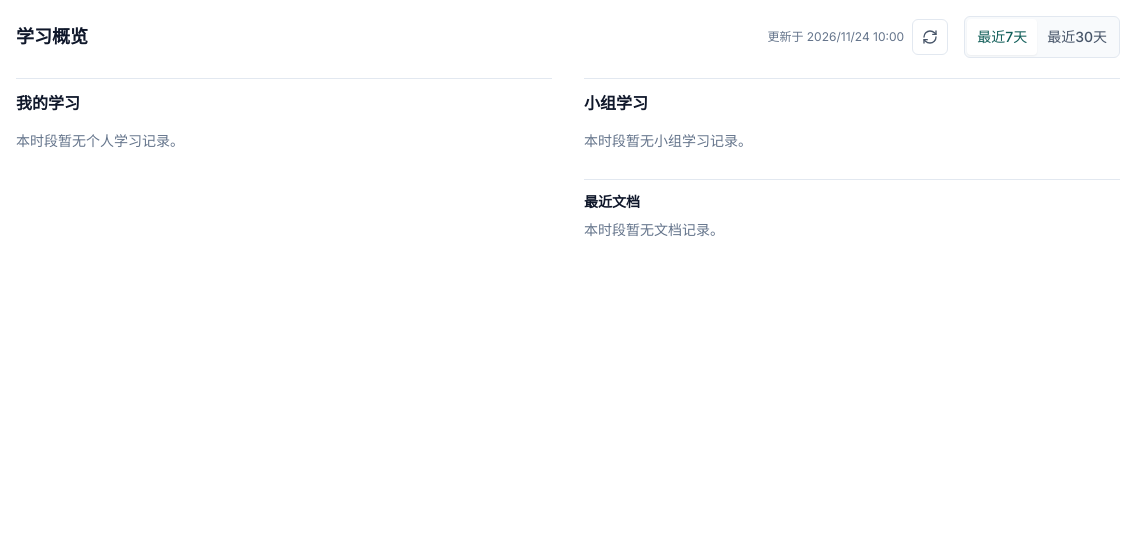
Test: LearningDashboard › refreshes saved records without changing the period
This screenshot has width=1137, height=551.
Check: the text "本时段暂无小组学习记录。" is shown, box left=584, top=132, right=752, bottom=149
Click the button named "刷新学习记录".
click(930, 37)  # box left=912, top=19, right=948, bottom=55
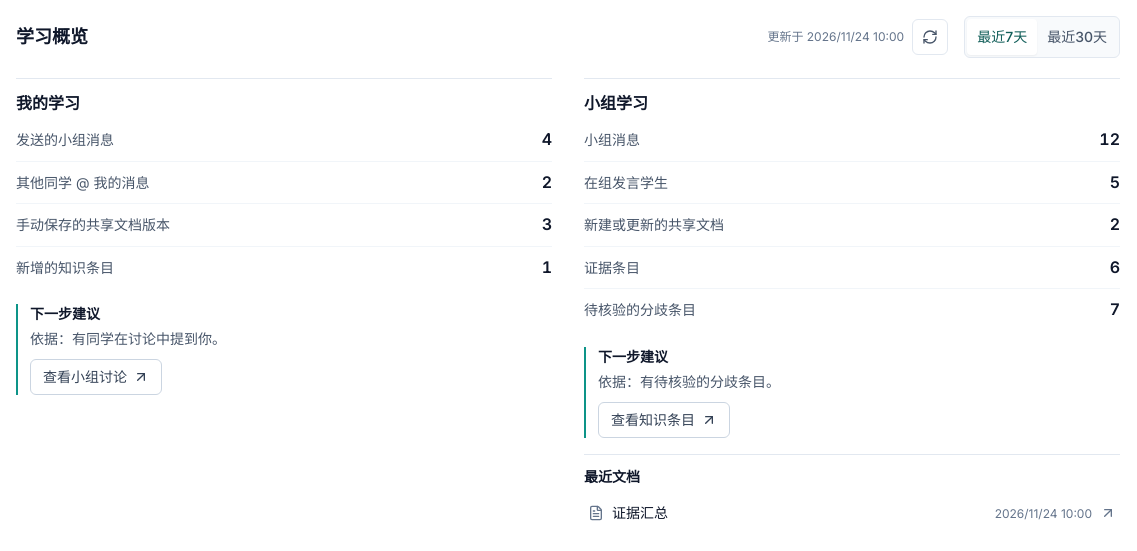
Check: the button "证据汇总 2026/11/24 10:00" is shown, box left=584, top=491, right=1120, bottom=535
